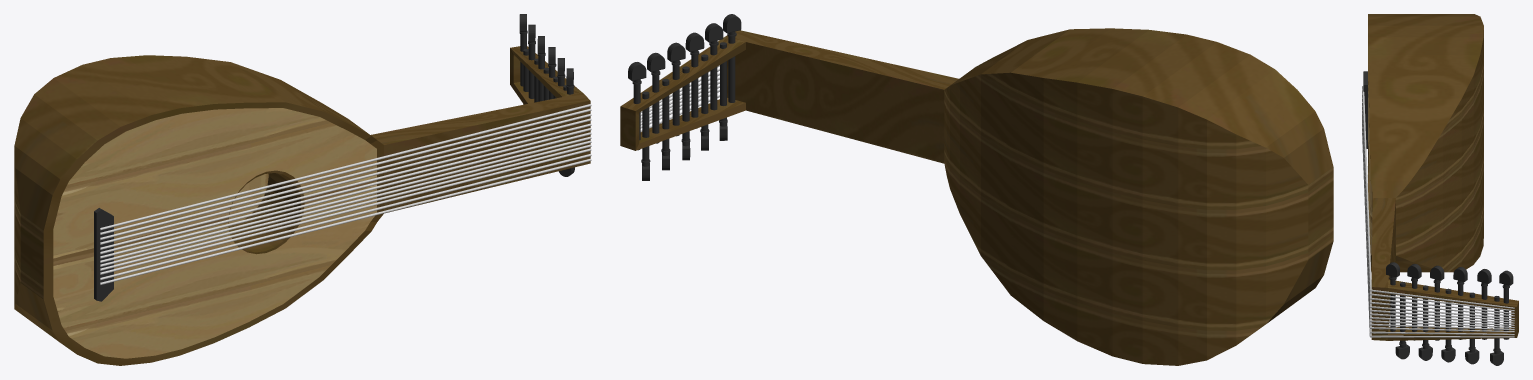
Rendered from Alaude.fbx.
The picture shows the model from 3 angles, left to right: view 1: azimuth 30°, elevation 25°; view 2: azimuth 150°, elevation 25°; view 3: azimuth 270°, elevation 25°; orthographic projection. The views are drawn at different scales.
Visible parts, largest first — view 1: Alaude; view 2: Alaude; view 3: Alaude.
Part boxes in pixels (bbox=[...]): Alaude: bbox=[14, 14, 591, 365]; Alaude: bbox=[620, 14, 1333, 365]; Alaude: bbox=[1362, 14, 1518, 365].
Bounding box in the file's own units: 1117 × 462 × 315.
